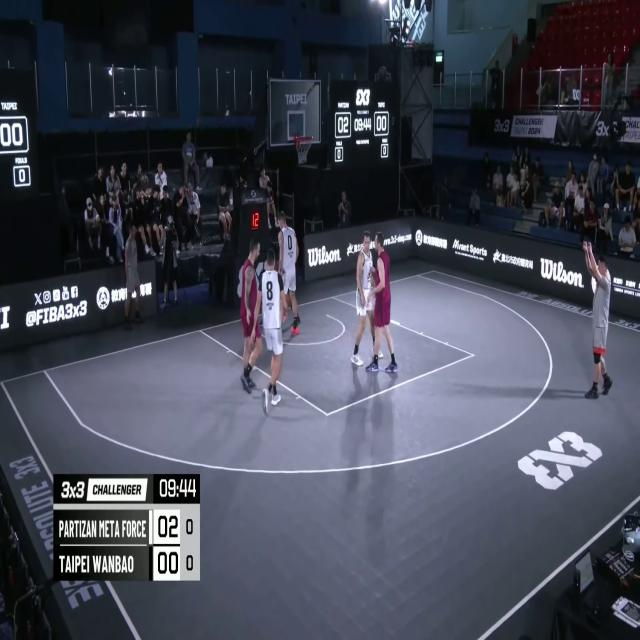hoop: (294, 134, 314, 164)
player: (366, 226, 399, 374), (258, 247, 285, 410), (239, 236, 263, 395), (353, 230, 379, 370), (278, 211, 300, 338)
